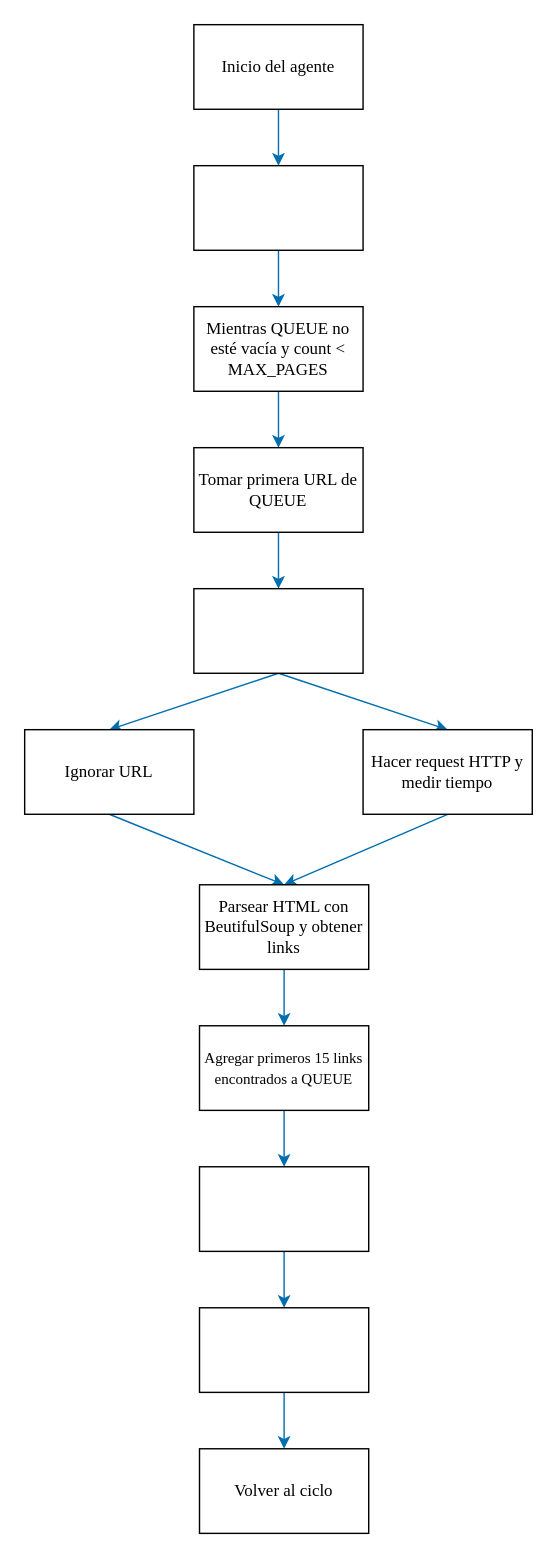
Image size: 557x1558. Some labels were removed from this diagram. Each missing label, with the centre of its shape:
"Agregar URL a VISITED y marcar como visitada" belongs at point (283, 1349).
"Cargar URL semillas en QUEUE" belongs at point (277, 207).
"Guardar info en CSV y mostrar en tabla con Rich" belongs at point (283, 1208).
"Si URL no visitada y pertenece a UAA" belongs at point (277, 630).
